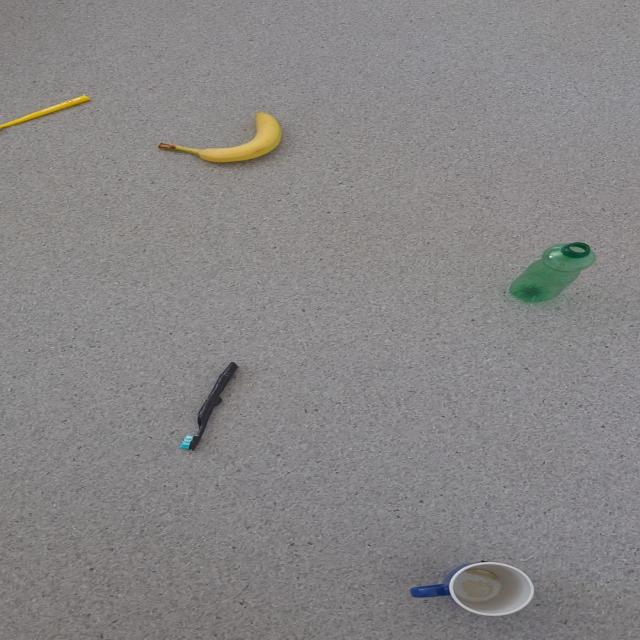banana: (157, 111, 282, 163)
bottle: (507, 242, 596, 304)
mug: (408, 560, 534, 616)
toothbrush: (178, 361, 238, 451), (0, 93, 91, 129)
